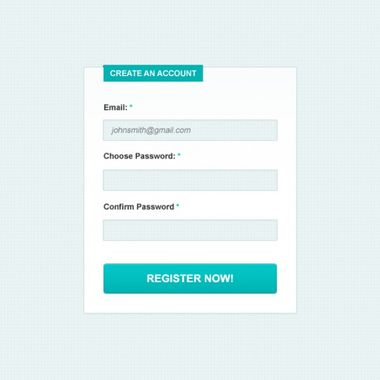_form_: (1, 1, 380, 380)
button: (102, 262, 276, 294)
field: (102, 117, 278, 142), (102, 167, 278, 192), (101, 219, 278, 242)
field_with_label: (100, 151, 281, 193), (100, 103, 280, 143), (99, 203, 280, 242)
